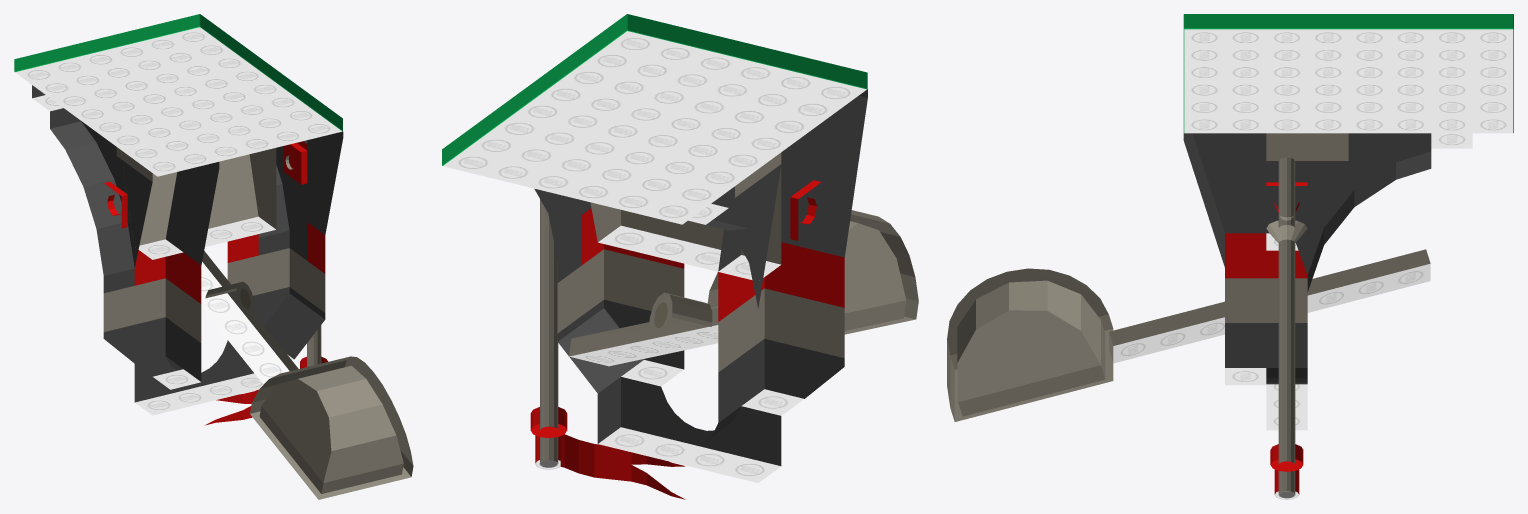
The picture shows the model from 3 angles, left to right: view 1: azimuth 30°, elevation 25°; view 2: azimuth 150°, elevation 25°; view 3: azimuth 270°, elevation 25°; orthographic projection. The views are drawn at different scales.
Visible parts, largest first — view 1: 043_shape24, 004_OC6096-4_PART__1, 033_shape18, 038_shape21, 030_shape15, 015_SCL_Castle___OC6096-4___Flag, 020_shape8; view 2: 043_shape24, 004_OC6096-4_PART__1, 033_shape18, 038_shape21, 030_shape15, 020_shape8, 015_SCL_Castle___OC6096-4___Flag, 013_OC6096-4_PART__6.2; view 3: 004_OC6096-4_PART__1, 043_shape24, 033_shape18, 030_shape15, 020_shape8, 013_OC6096-4_PART__6.2.
Part boxes in pixels (<box>): 043_shape24: <box>32,85,343,415</box>; 004_OC6096-4_PART__1: <box>14,14,342,176</box>; 033_shape18: <box>250,356,413,499</box>; 038_shape21: <box>138,148,276,259</box>; 030_shape15: <box>201,251,298,384</box>; 015_SCL_Castle___OC6096-4___Flag: <box>205,389,258,425</box>; 020_shape8: <box>285,155,321,366</box>; 043_shape24: <box>534,89,867,482</box>; 004_OC6096-4_PART__1: <box>442,14,867,224</box>; 033_shape18: <box>707,210,918,334</box>; 038_shape21: <box>590,166,781,279</box>; 030_shape15: <box>569,292,718,366</box>; 020_shape8: <box>540,199,558,463</box>; 015_SCL_Castle___OC6096-4___Flag: <box>564,434,685,499</box>; 013_OC6096-4_PART__6.2: <box>530,407,567,469</box>; 004_OC6096-4_PART__1: <box>1183,14,1513,133</box>; 043_shape24: <box>1183,133,1472,430</box>; 033_shape18: <box>947,268,1113,421</box>; 030_shape15: <box>1109,249,1430,363</box>; 020_shape8: <box>1266,157,1307,494</box>; 013_OC6096-4_PART__6.2: <box>1270,444,1303,499</box>.
Size of the model in its own units: 5.6 by 7.92 by 10.99.
11 materials, 4 textured.
